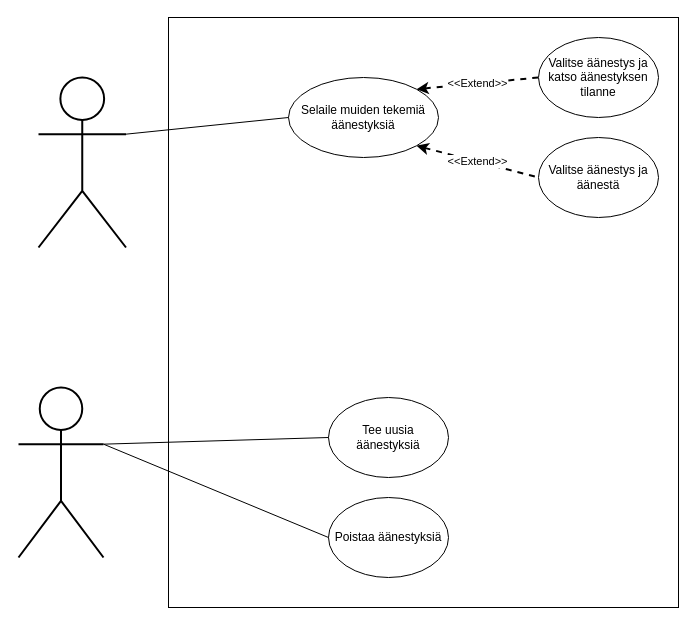
Image size: 696x625. Some labels were removed from this diagram. Here are the shapes that lost their labels. From the top down, the box of each, then its label:
(37, 76, 126, 248): Käyttäjä
(17, 386, 104, 558): Ylläpitäjä
